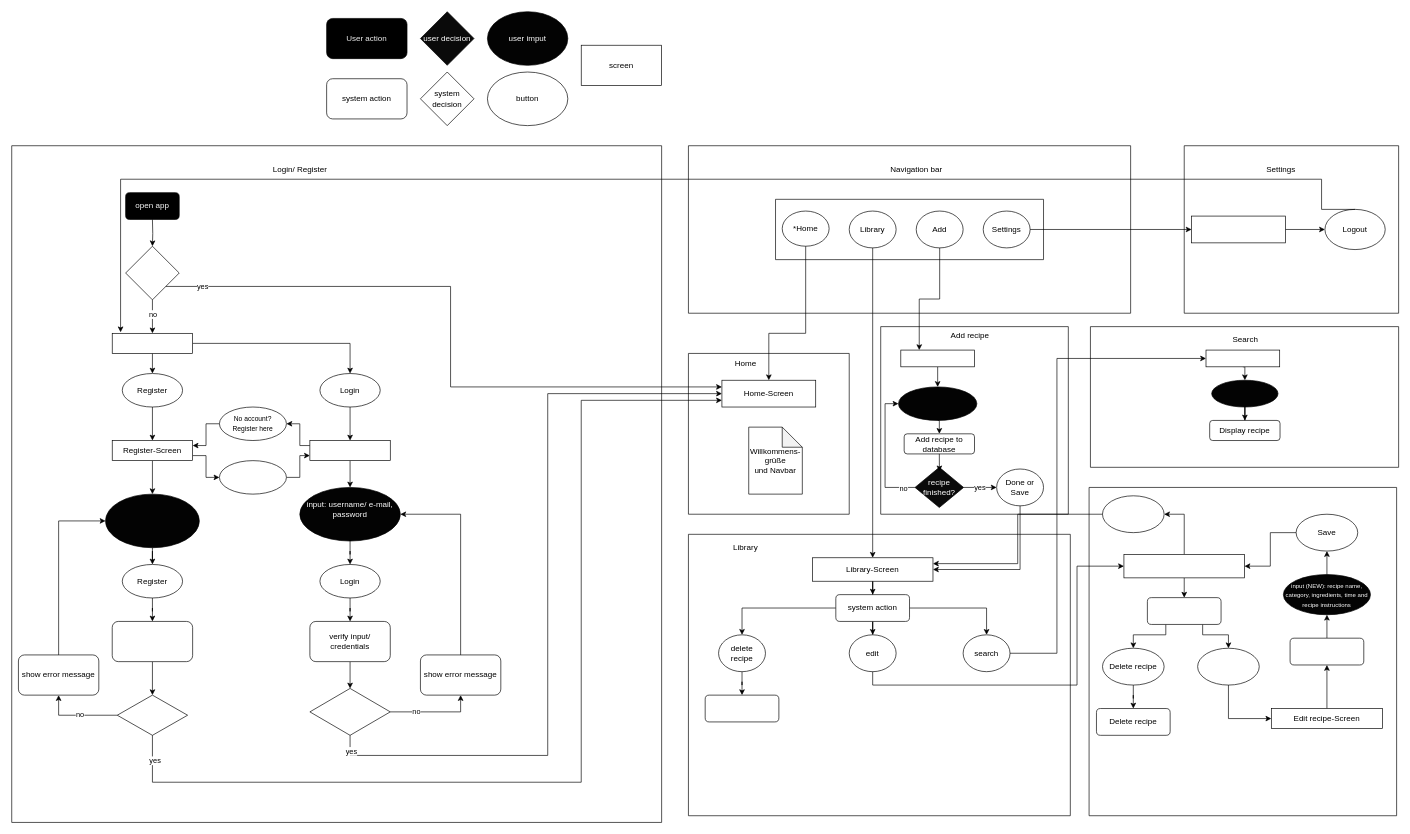
This 1410x834 diagram has some shape labels left out. Each missing label, with the centre of its shape:
"Add recipe-Screen" belongs at pixel 937 358.
"Already have an account? Login here" belongs at pixel 252 477.
"Delete deck" belongs at pixel 742 708.
"Display current recipe (data)" belongs at pixel 1326 651.
"Display recipes" belongs at pixel 1184 610.
"Edit recipe" belongs at pixel 1228 666.
"Edit-Screen" belongs at pixel 1184 566.
"Go Back" belongs at pixel 1133 514.
"Input valid?" belongs at pixel 152 714.
"input/ credentials valid?" belongs at pixel 349 711.
"input: recipe name, category, ingredients, time and recipe instructions" belongs at pixel 937 403.
"input: recipe name,*category" belongs at pixel 1244 393.
"input: username/ e-mail, password, Confirm password" belongs at pixel 152 520.
"Logged in?" belongs at pixel 152 273.
"Login-Sceen" belongs at pixel 349 450.
"Search-Screen" belongs at pixel 1242 358.
"Settings-Screen" belongs at pixel 1238 229.
"Start-Screen" belongs at pixel 152 343.
"verify input" belongs at pixel 152 641.
